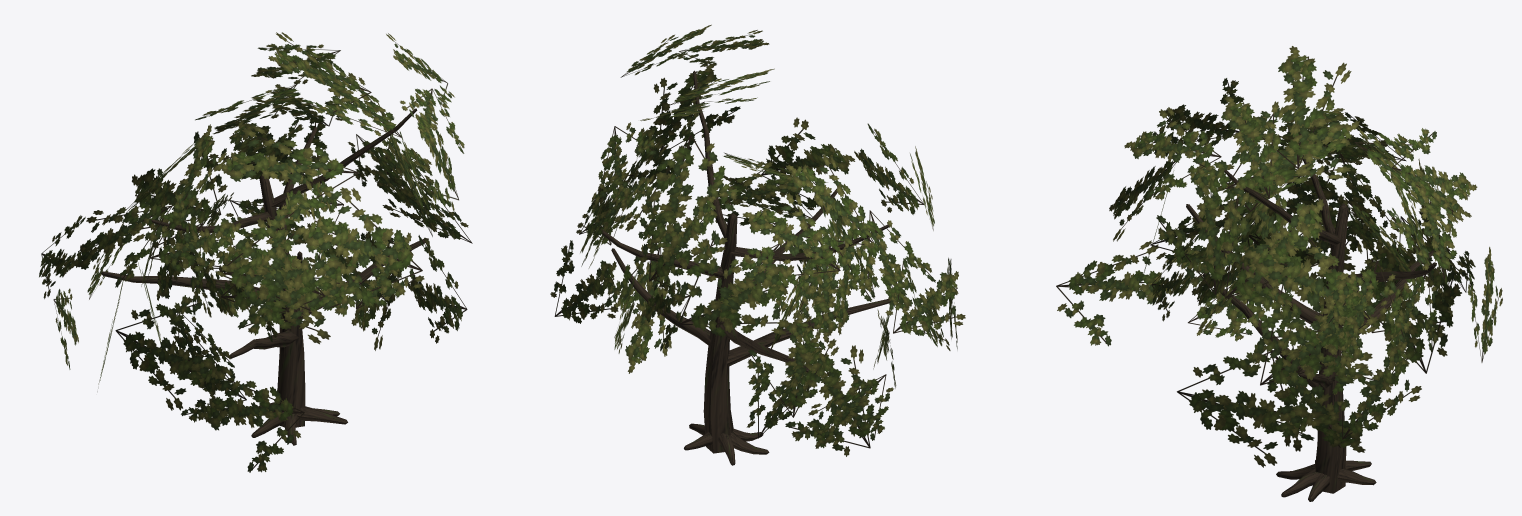
File: DarkOak_2_LOD2.gltf
3 views of the same model, side by side, from view 1: azimuth 30°, elevation 25°; view 2: azimuth 150°, elevation 25°; view 3: azimuth 270°, elevation 25° (orthographic). The views are drawn at different scales.
Parts seen in each view (by area): view 1: DarkOak_2_LOD2; view 2: DarkOak_2_LOD2; view 3: DarkOak_2_LOD2.
Part boxes in pixels (x1,y1,x2,y2): DarkOak_2_LOD2: (39,32,472,472); DarkOak_2_LOD2: (550,24,965,465); DarkOak_2_LOD2: (1056,46,1502,501).
Bounding box in the file's own units: 17.99 × 17.21 × 16.74.
Materials: 2 (2 with a texture image).
